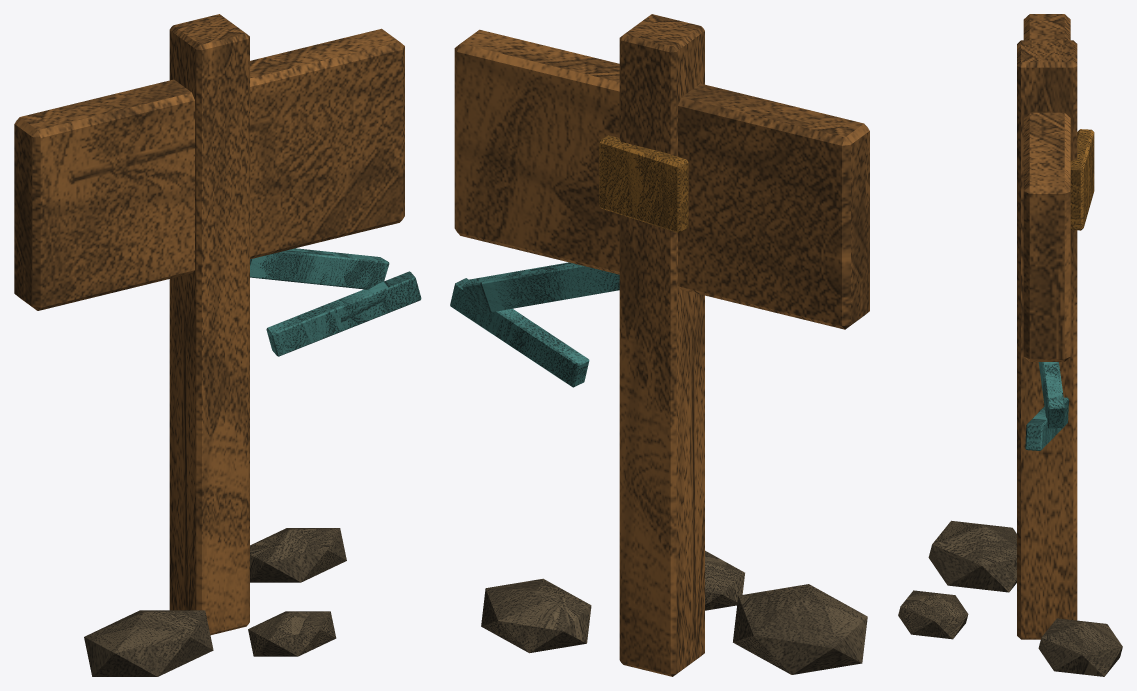
File: claim_stake.glb
3 renders of one model, left to right at view 1: azimuth 30°, elevation 25°; view 2: azimuth 150°, elevation 25°; view 3: azimuth 270°, elevation 25°, orthographic. The views are drawn at different scales.
Parts seen in each view (by area): view 1: claim_stake; view 2: claim_stake; view 3: claim_stake.
Boxes of the visible parts, bbox=[...] form: claim_stake: bbox=[14, 14, 421, 676]; claim_stake: bbox=[450, 14, 869, 676]; claim_stake: bbox=[898, 14, 1122, 676].
Size of the model in its own units: 1.31 by 1.91 by 0.6709.
1 material, 1 textured.
